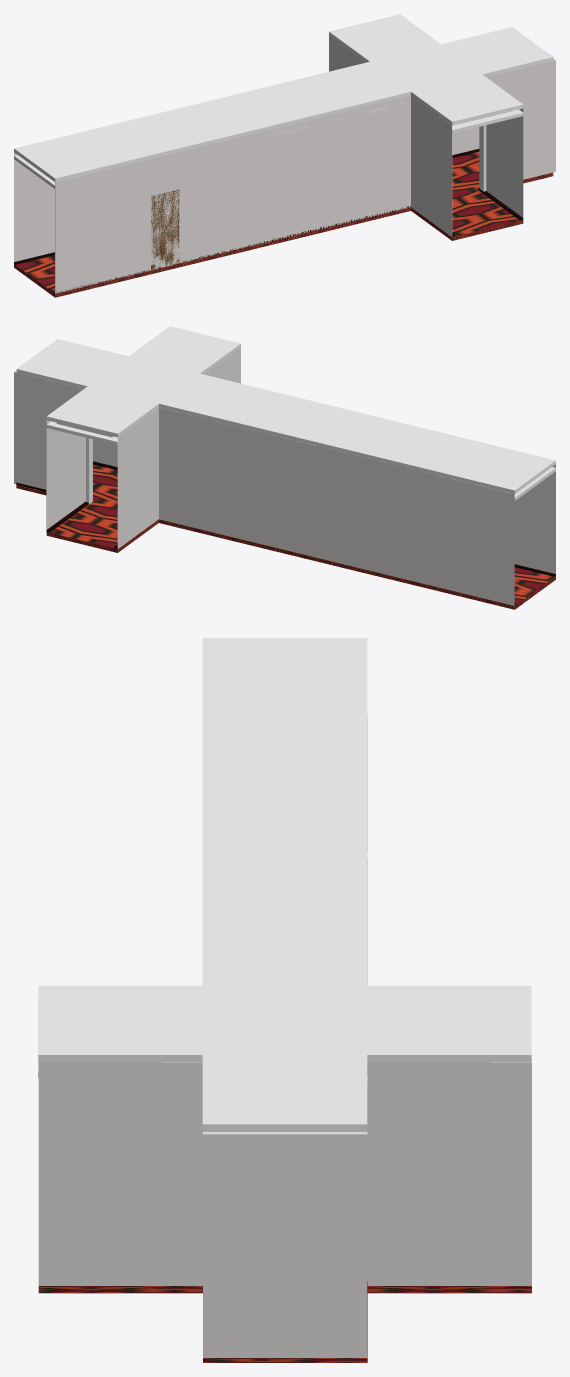
Rendered from version 2.fbx.
3 views of the same model, one above another, from view 1: azimuth 30°, elevation 25°; view 2: azimuth 150°, elevation 25°; view 3: azimuth 270°, elevation 25° (orthographic). The views are drawn at different scales.
Visible parts, largest first — view 1: 物件_35, 物件_6, 物件_34, 物件_66, 物件_27, 物件_1, 物件_33, 物件_48, 物件_65, 物件_28, 物件_8, 物件_25 (+1 smaller); view 2: 物件_1, 物件_6, 物件_34, 物件_65, 物件_28, 物件_35, 物件_31, 物件_66, 物件_27, 物件_18, 物件_11; view 3: 物件_6, 物件_4, 物件_31, 物件_33, 物件_34.
Boxes of the visible parts, <box> form: 物件_35: <box>55,95,410,293</box>; 物件_6: <box>14,14,553,182</box>; 物件_34: <box>14,151,553,297</box>; 物件_66: <box>411,95,452,236</box>; 物件_27: <box>486,61,553,179</box>; 物件_1: <box>14,152,54,261</box>; 物件_33: <box>486,108,523,217</box>; 物件_48: <box>151,189,179,270</box>; 物件_65: <box>329,35,365,71</box>; 物件_28: <box>452,127,479,154</box>; 物件_8: <box>452,109,523,133</box>; 物件_25: <box>479,125,486,191</box>; 物件_1: <box>159,407,514,605</box>; 物件_6: <box>16,326,555,494</box>; 物件_34: <box>16,464,555,609</box>; 物件_65: <box>117,407,158,548</box>; 物件_28: <box>16,373,83,489</box>; 物件_35: <box>514,464,555,573</box>; 物件_31: <box>46,420,85,531</box>; 物件_66: <box>204,347,240,383</box>; 物件_27: <box>93,439,117,466</box>; 物件_18: <box>86,437,92,503</box>; 物件_11: <box>53,424,111,442</box>; 物件_6: <box>38,638,531,1131</box>; 物件_4: <box>203,1132,367,1357</box>; 物件_31: <box>367,1062,531,1285</box>; 物件_33: <box>38,1062,202,1285</box>; 物件_34: <box>38,1286,531,1362</box>.
Bounding box in the file's own units: 1407 × 320 × 601.
Materials: 5 (2 with a texture image).
